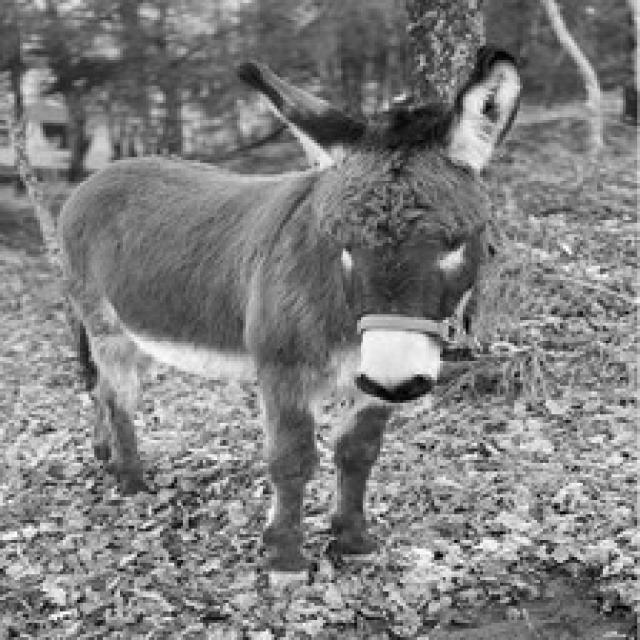Donkey: (51, 43, 523, 588)
